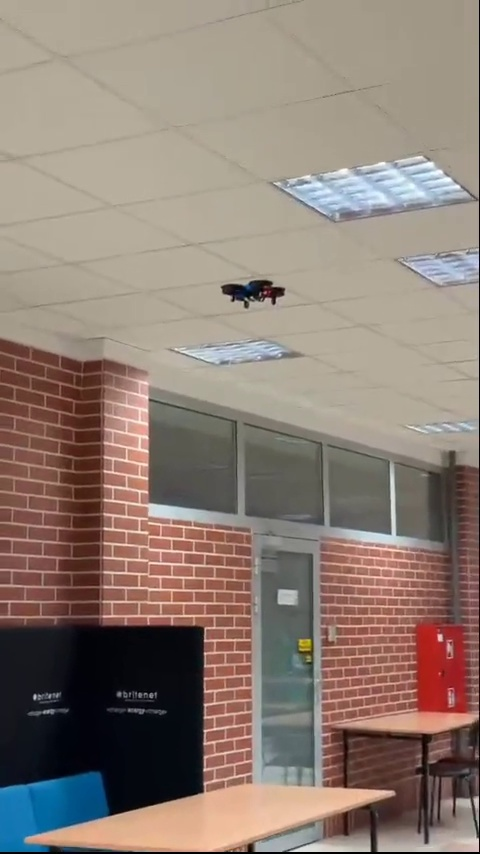drone: (222, 277, 284, 305)
